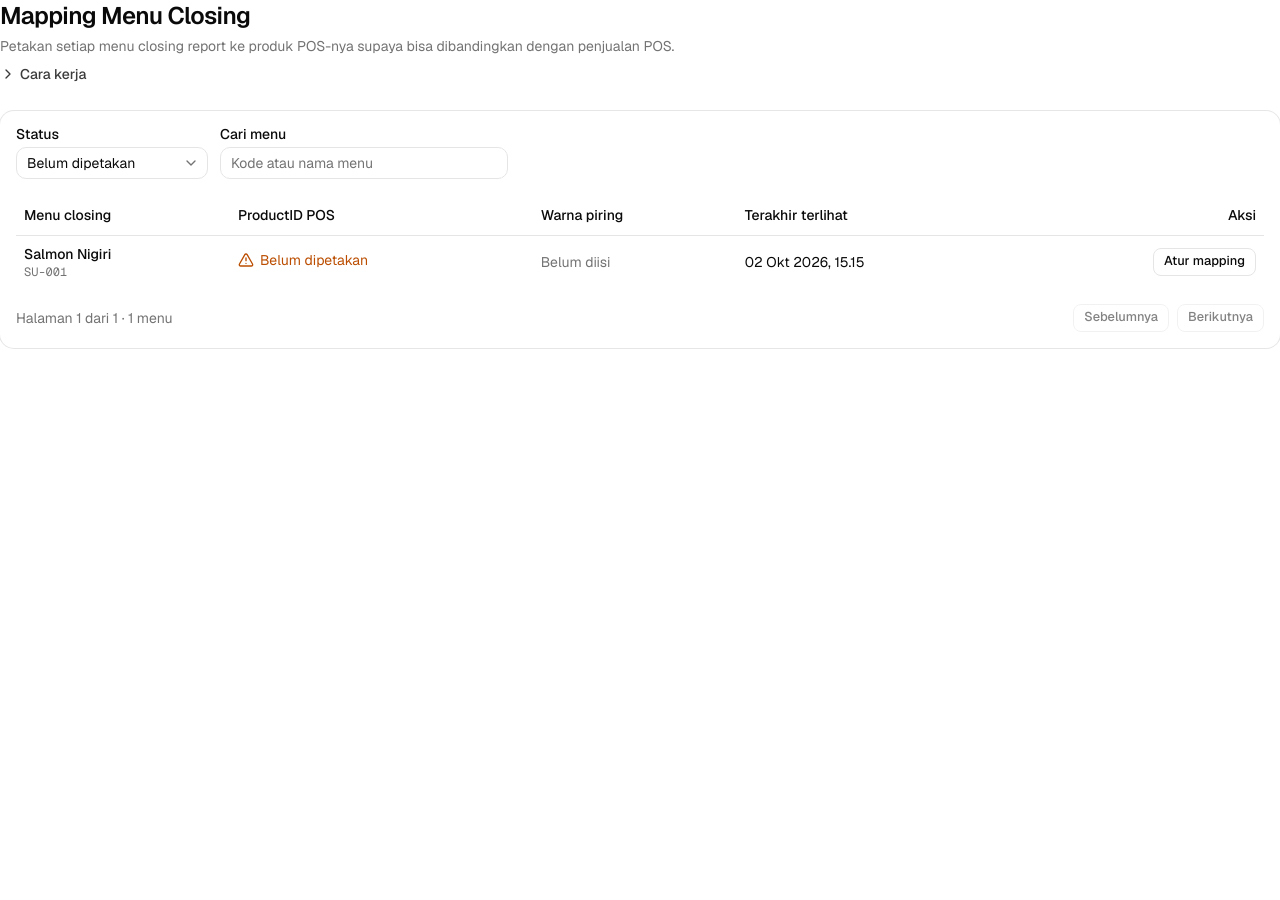
it: ClosingMenusView — tidak ada di POS › 409 bentrok dari server (ditandai di tempat lain) memunculkan pilihan
Check: the heading "Cara kerja" is shown, box [0,64,86,84]
Click the dropdown named "status" at (112, 163), box [16,147,208,179]
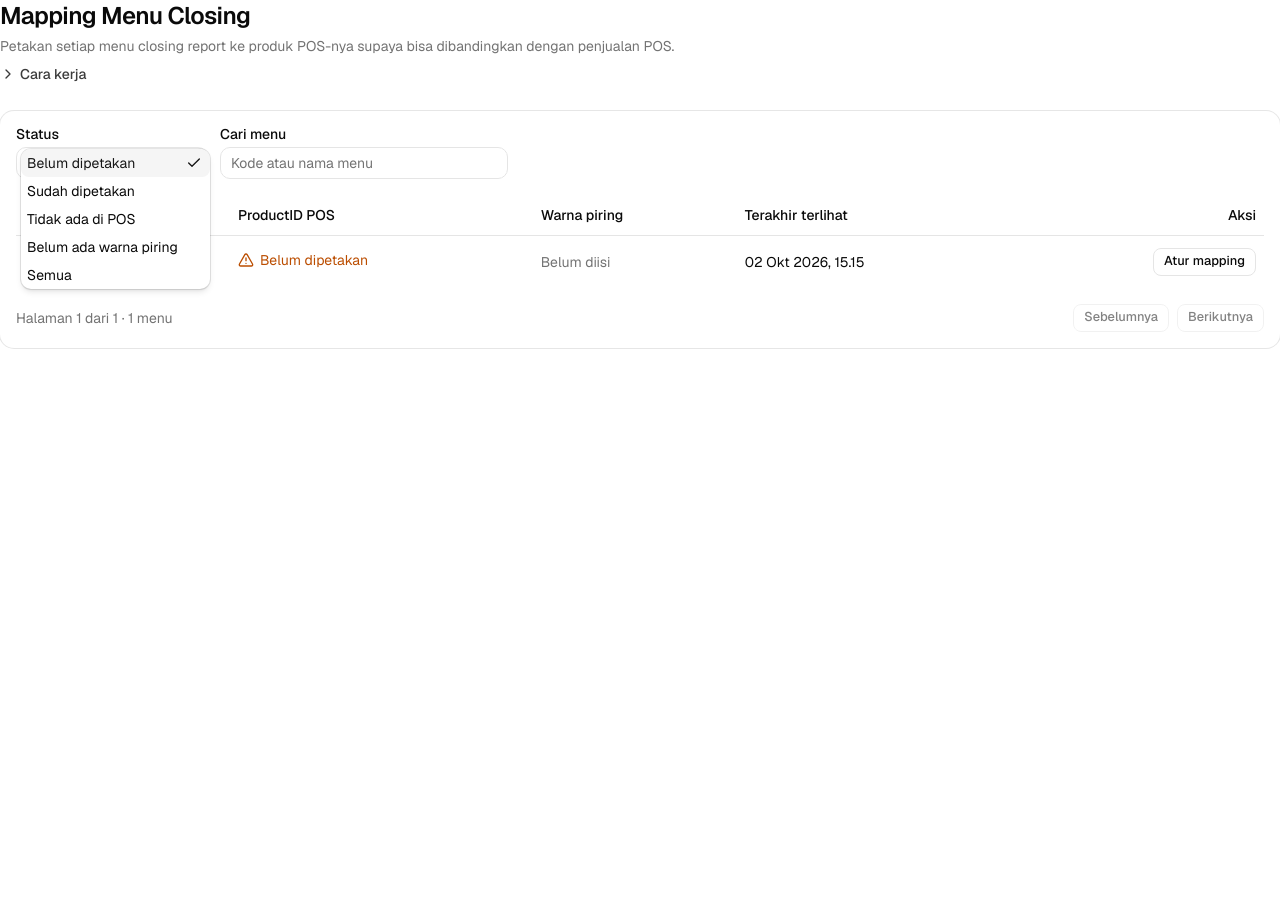
Click the option "Semua" at (49, 275), box [27,266,72,284]
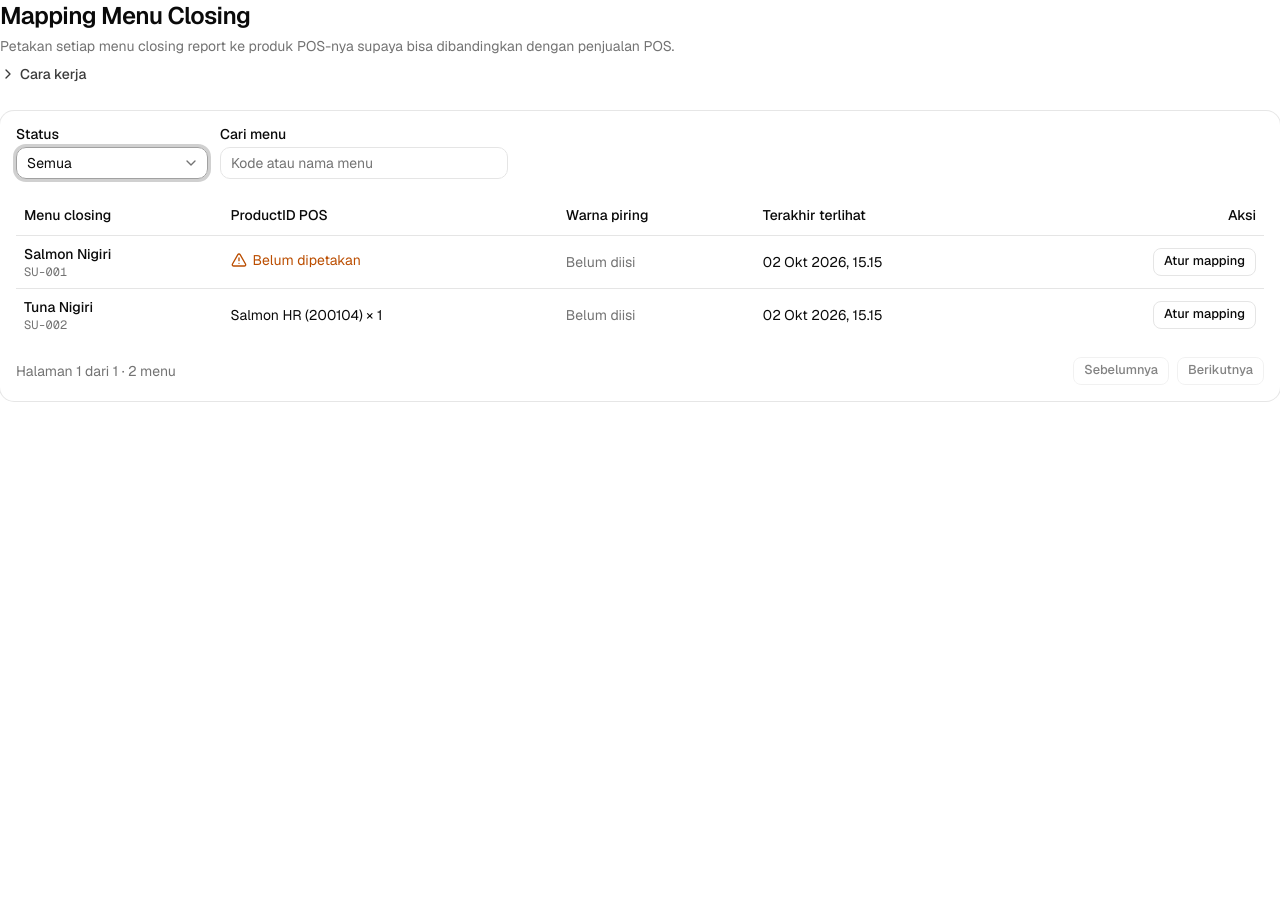
Click the button "Atur mapping" in the row of "Salmon Nigiri" at (1204, 262), box [1153,248,1256,276]
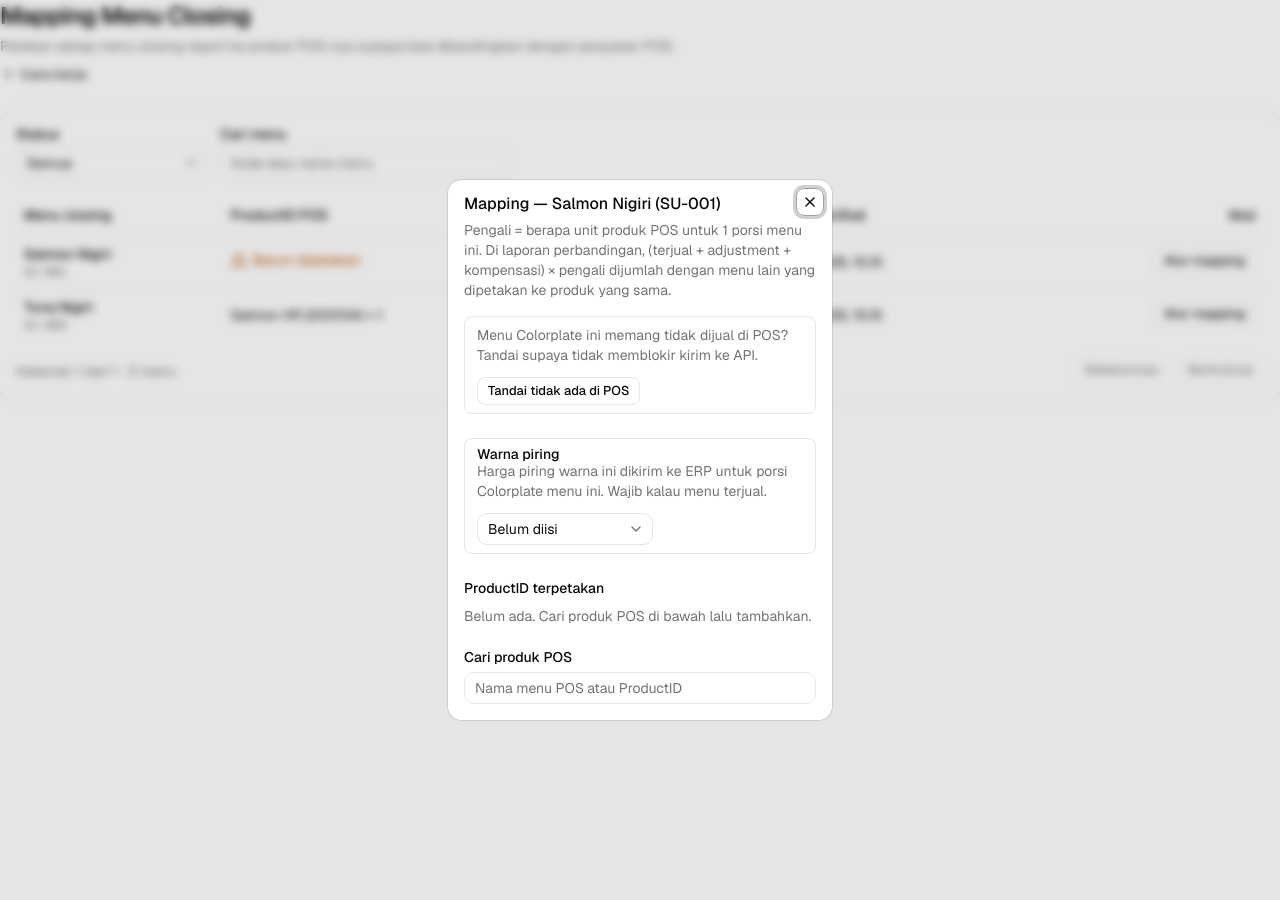
Type "paket" into the field labelled "Cari produk POS" at (640, 688), box [464,672,816,704]
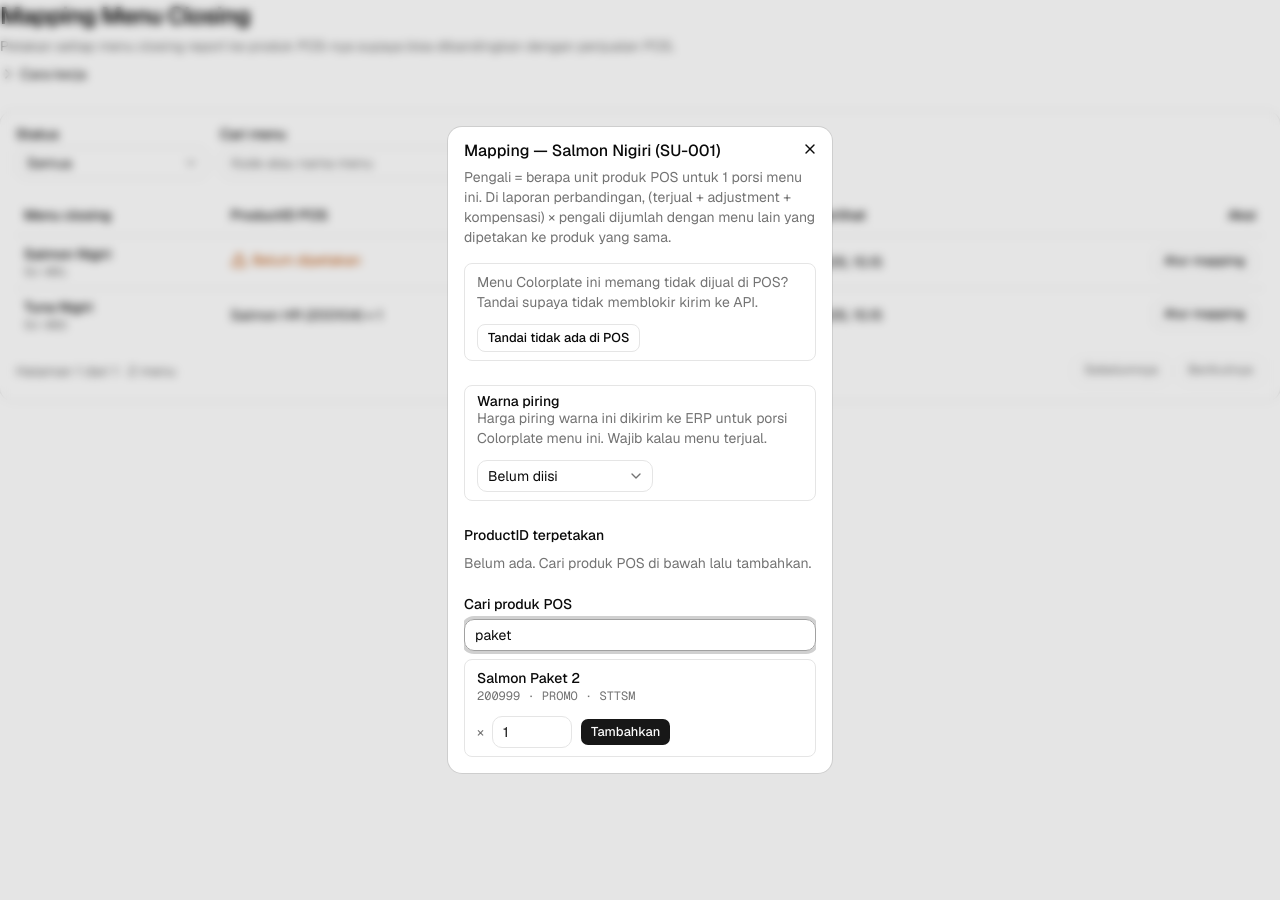
Click the button "Tambahkan" at (626, 732), box [580,718,671,746]
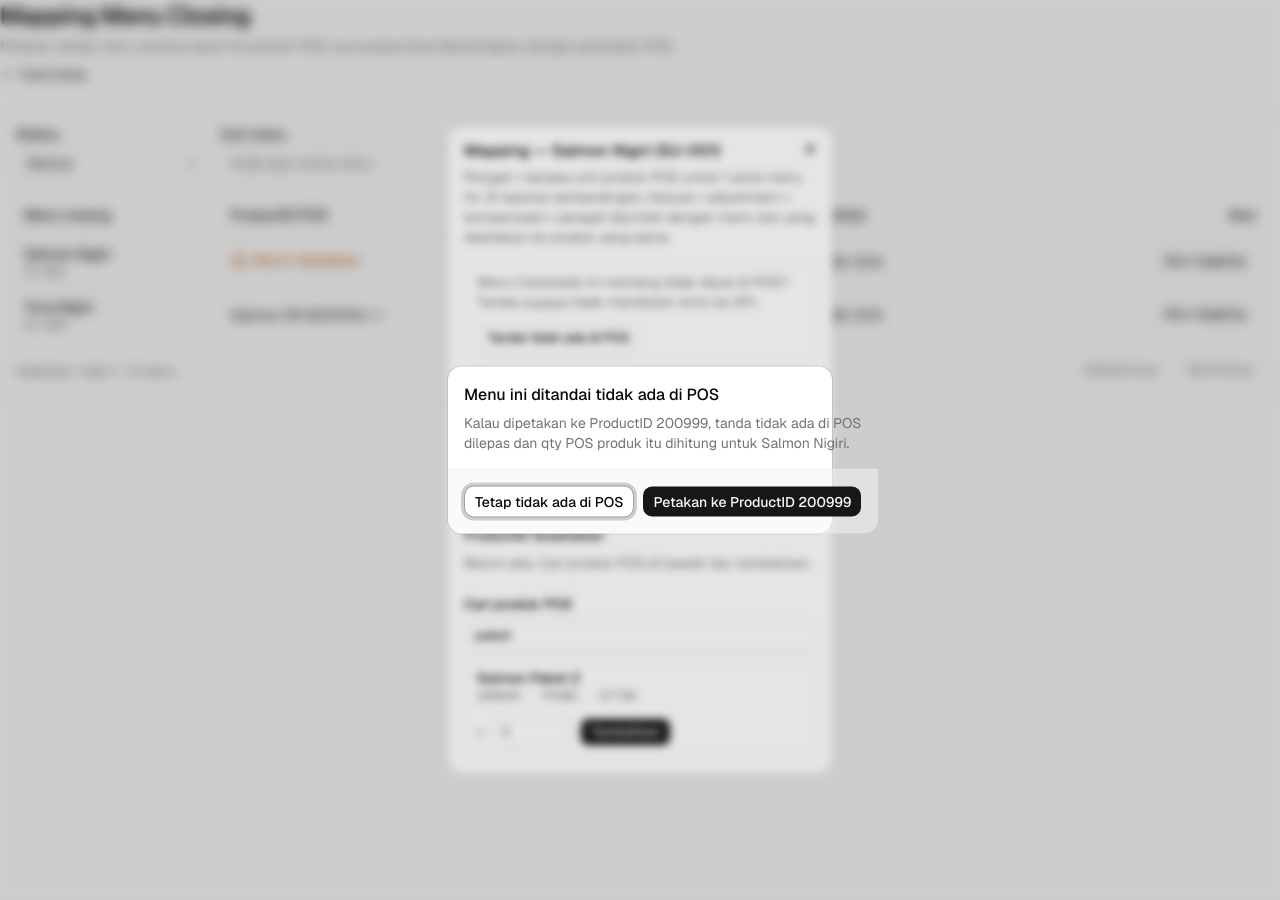
Check: the heading "Menu ini ditandai tidak ada di POS" is shown, box [464,382,719,406]
